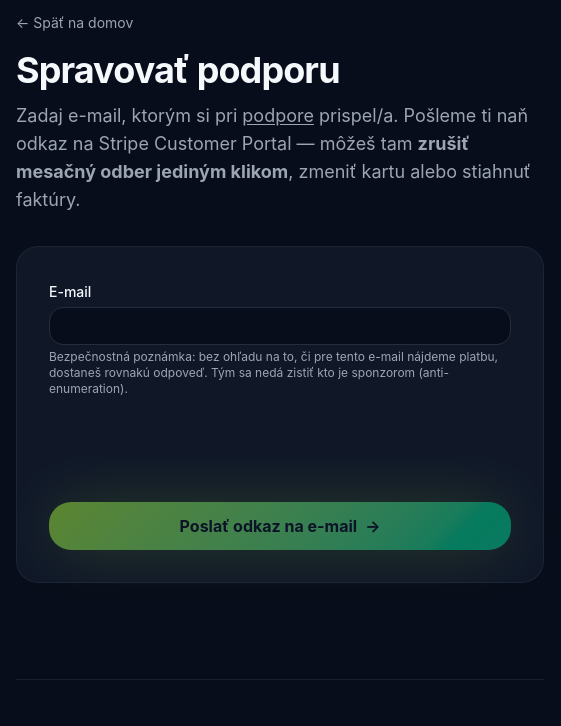
ManageSupportForm (/spravovat-podporu) › posts to /api/portal-magic-link and shows the submitted state
Type "anna@example.test" into the field labelled "E-mail".
click(280, 326); type("anna@example.test")  # box [49,307,511,345]
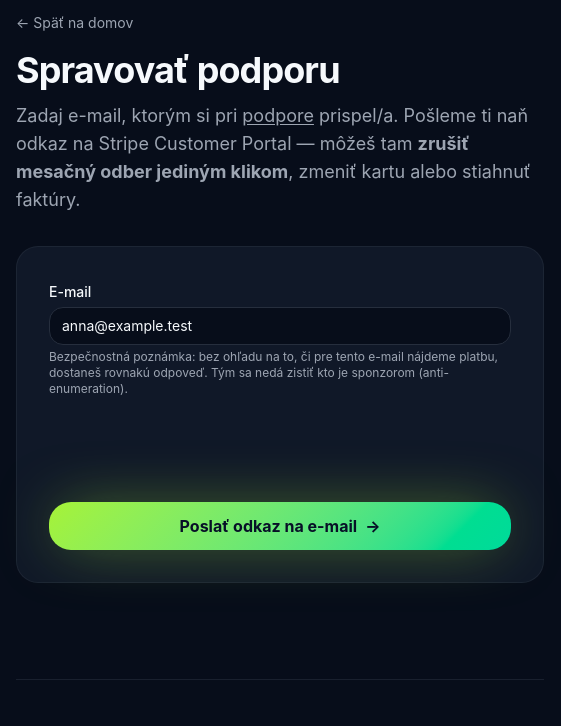
Click the button "Poslať odkaz na e-mail →".
click(280, 526)  # box [49,502,511,550]
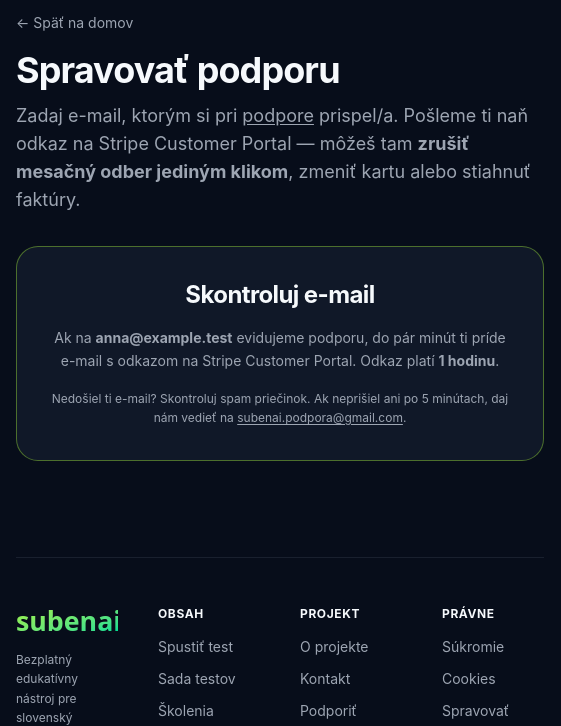
Result: the heading "Skontroluj e-mail" is shown at [185,280,375,309]
Result: the text "anna@example.test" is shown at [96,329,232,346]
